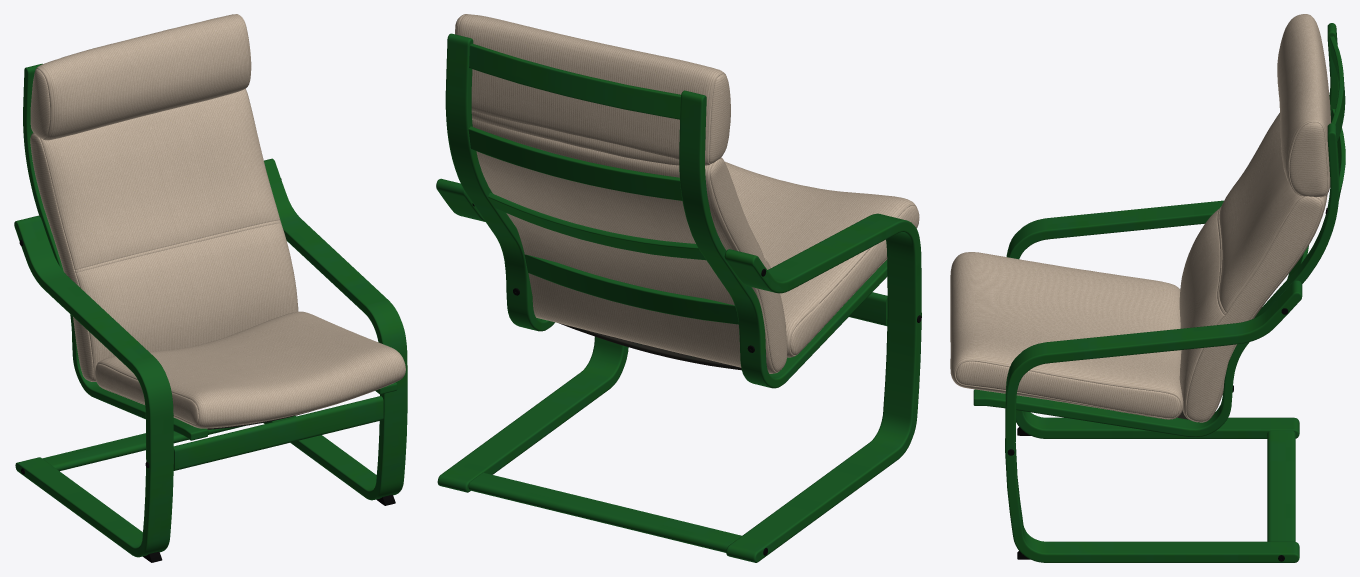
File: poang_fotel_79625014.glb
The picture shows the model from 3 angles, left to right: view 1: azimuth 30°, elevation 25°; view 2: azimuth 150°, elevation 25°; view 3: azimuth 270°, elevation 25°; orthographic projection. The views are drawn at different scales.
Visible parts, largest first — view 1: poang_fotel_79625014; view 2: poang_fotel_79625014; view 3: poang_fotel_79625014.
Part boxes in pixels (left/top/right/bottom): poang_fotel_79625014: left=14, top=14, right=407, bottom=562; poang_fotel_79625014: left=436, top=14, right=921, bottom=562; poang_fotel_79625014: left=950, top=14, right=1345, bottom=562.
Size of the model in its own units: 0.687 by 1 by 0.8346.
Materials: 5 (3 with a texture image).
